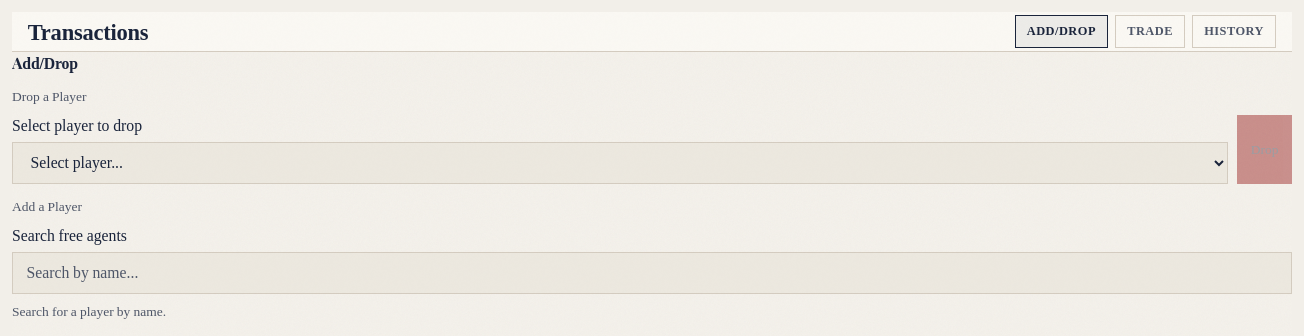
Test: TransactionsPage › renders trade tab with evaluation panel
Step 1. Click the button "Trade" → click(1150, 32), box [1115,16,1185,48]
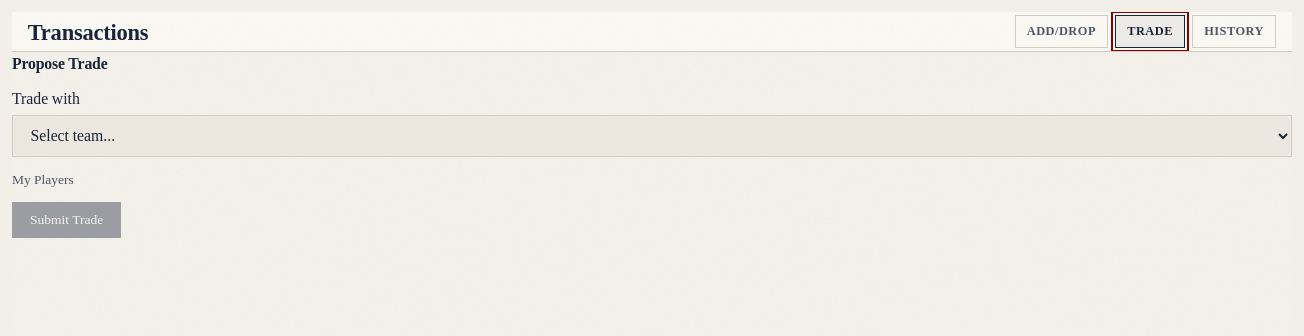
Now the heading "Propose Trade" is shown, box [12,52,108,73]
Now the dropdown labelled "Trade with" is shown, box [12,115,1292,157]
